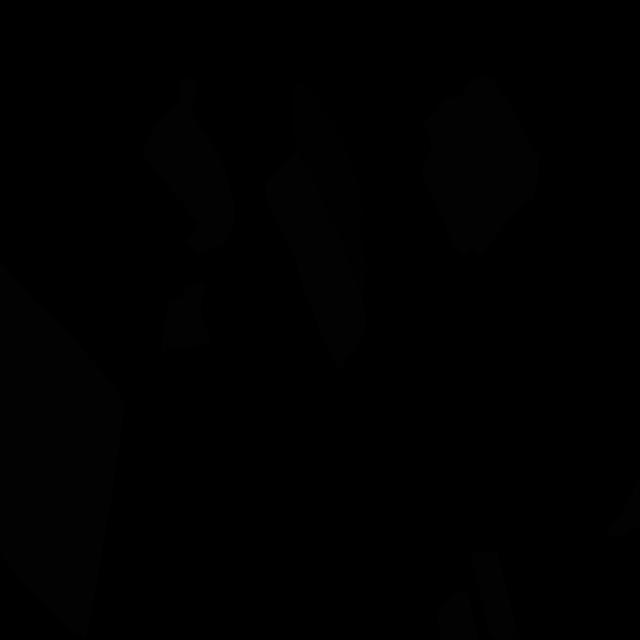cardboard: (0, 262, 125, 639), (265, 151, 366, 369), (422, 76, 540, 256), (144, 77, 236, 254), (470, 551, 520, 640), (161, 282, 211, 352), (436, 590, 478, 640), (607, 476, 640, 538)
rigid_plastic: (292, 81, 366, 297)
